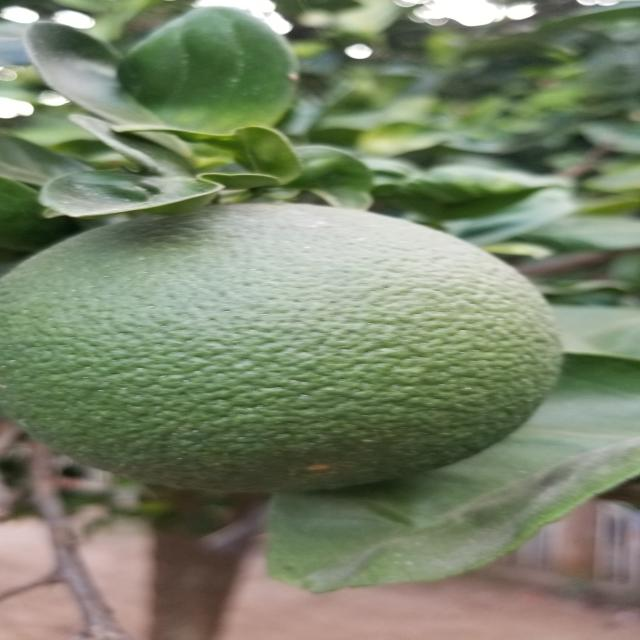Unripe: (0, 190, 578, 500)
